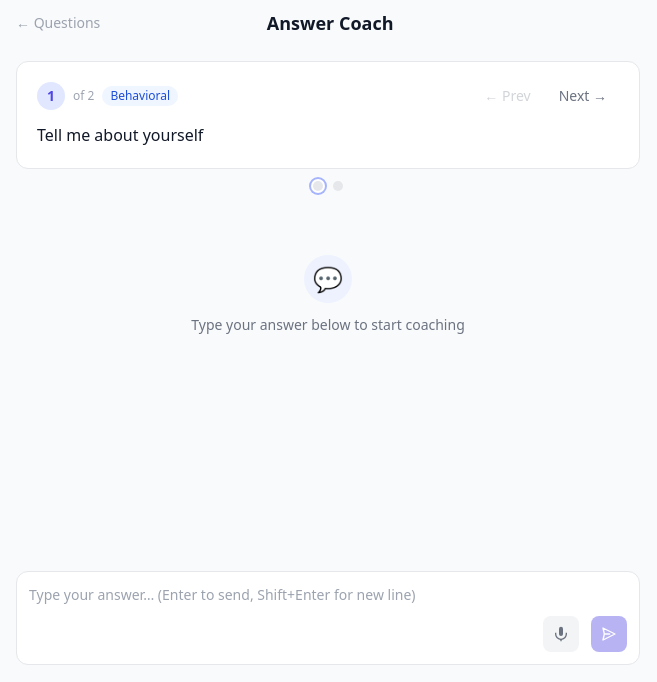
Test: AnswerCoach › disables Prev on first question and Next on last question
Expected: the button "← Prev" is disabled, [472, 82, 543, 110]
Click the button "Next →" at (583, 96), box [547, 82, 619, 110]
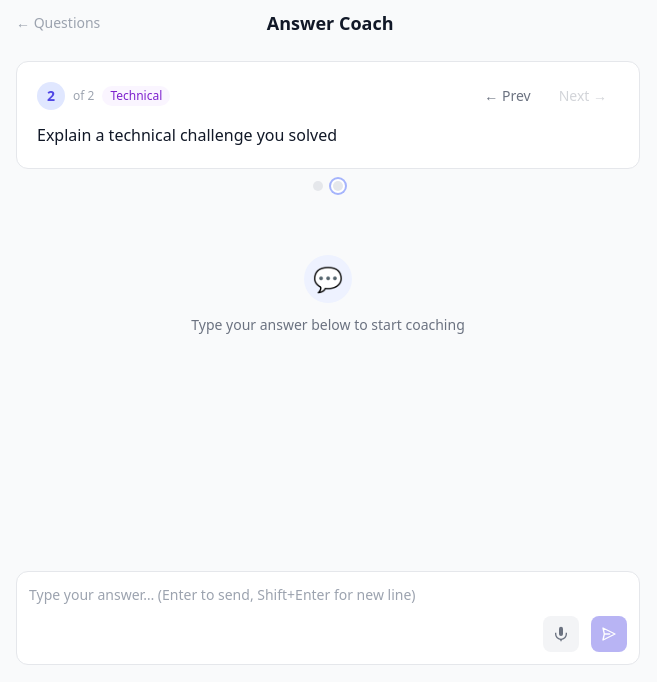
Expected: the button "← Prev" is enabled, [472, 82, 543, 110]
Expected: the button "Next →" is disabled, [547, 82, 619, 110]
